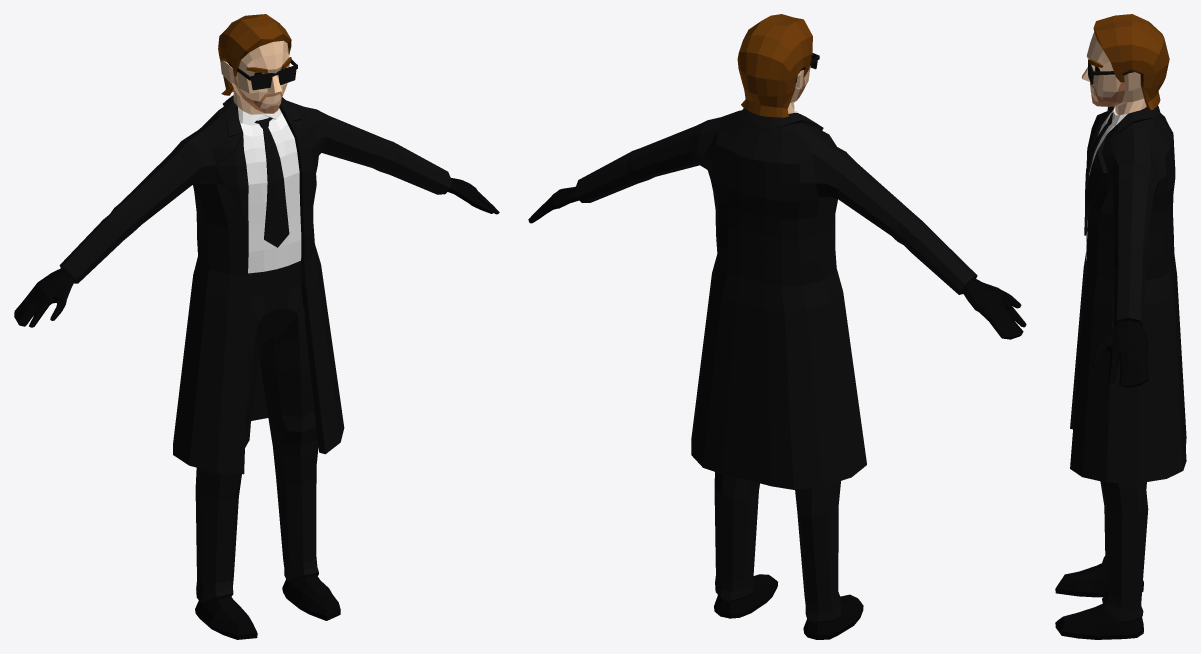
The model's file is vald.glb.
3 views of the same model, side by side, from view 1: azimuth 30°, elevation 25°; view 2: azimuth 150°, elevation 25°; view 3: azimuth 270°, elevation 25° (orthographic). The views are drawn at different scales.
Visible parts, largest first — view 1: chr_vlad_body, chr_vlad_glasses; view 2: chr_vlad_body; view 3: chr_vlad_body, chr_vlad_glasses.
Part boxes in pixels (box(x1,y1,x2,y2)): chr_vlad_body: box(14, 14, 499, 639); chr_vlad_glasses: box(225, 59, 297, 90); chr_vlad_body: box(528, 14, 1026, 639); chr_vlad_body: box(1055, 14, 1186, 639); chr_vlad_glasses: box(1088, 60, 1143, 84).
Size of the model in its own units: 1.48 by 1.74 by 0.3494.
1 material, 1 textured.
